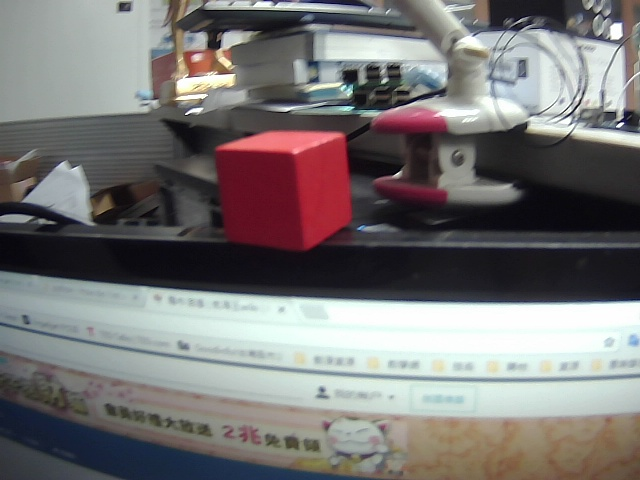redbox: (209, 125, 358, 255)
